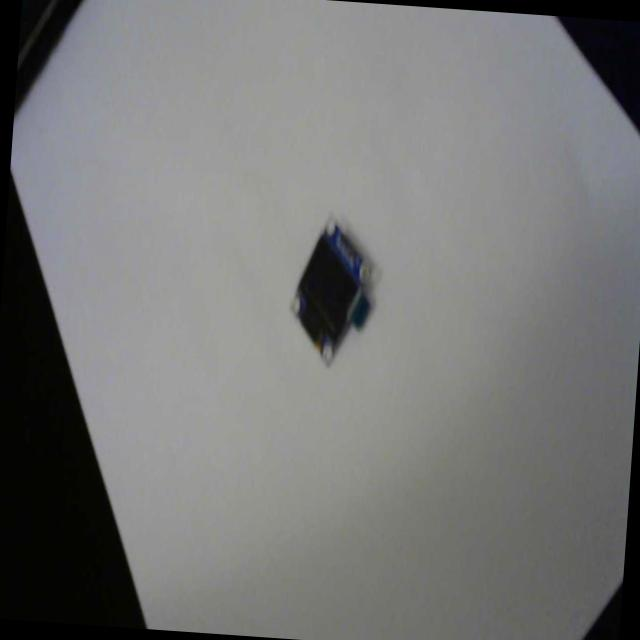oled: (282, 206, 388, 376)
